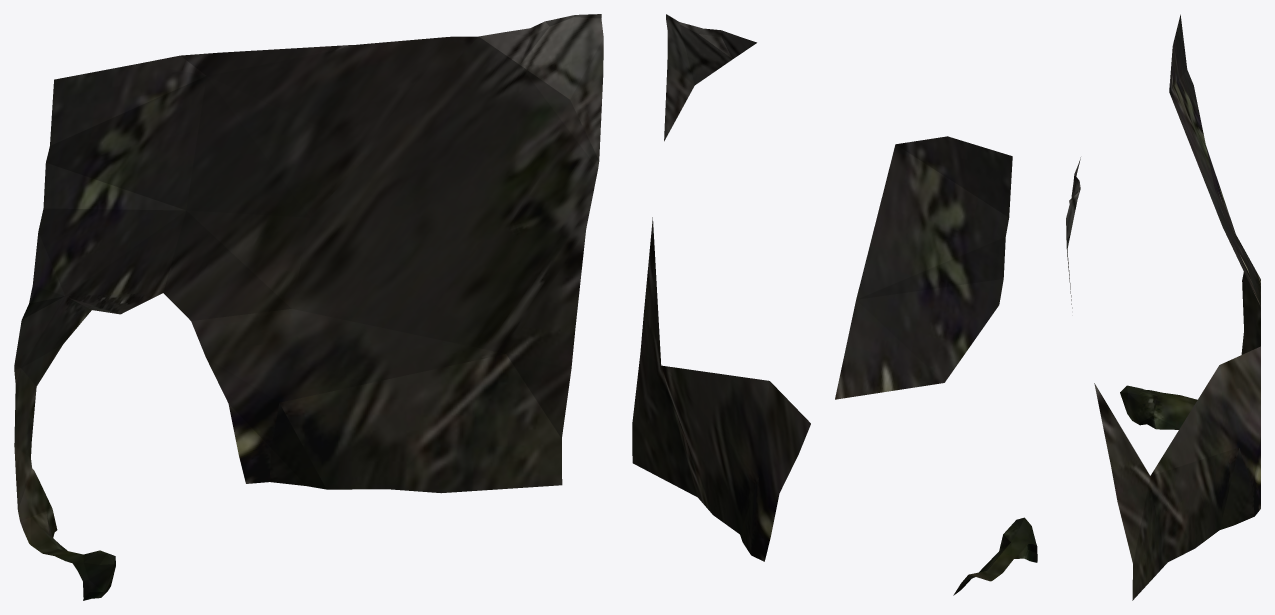
The picture shows the model from 3 angles, left to right: view 1: azimuth 30°, elevation 25°; view 2: azimuth 150°, elevation 25°; view 3: azimuth 270°, elevation 25°; orthographic projection. The views are drawn at different scales.
Bounding box in the file's own units: 0.8374 × 0.8374 × 0.3696.
3 materials, 3 textured.
